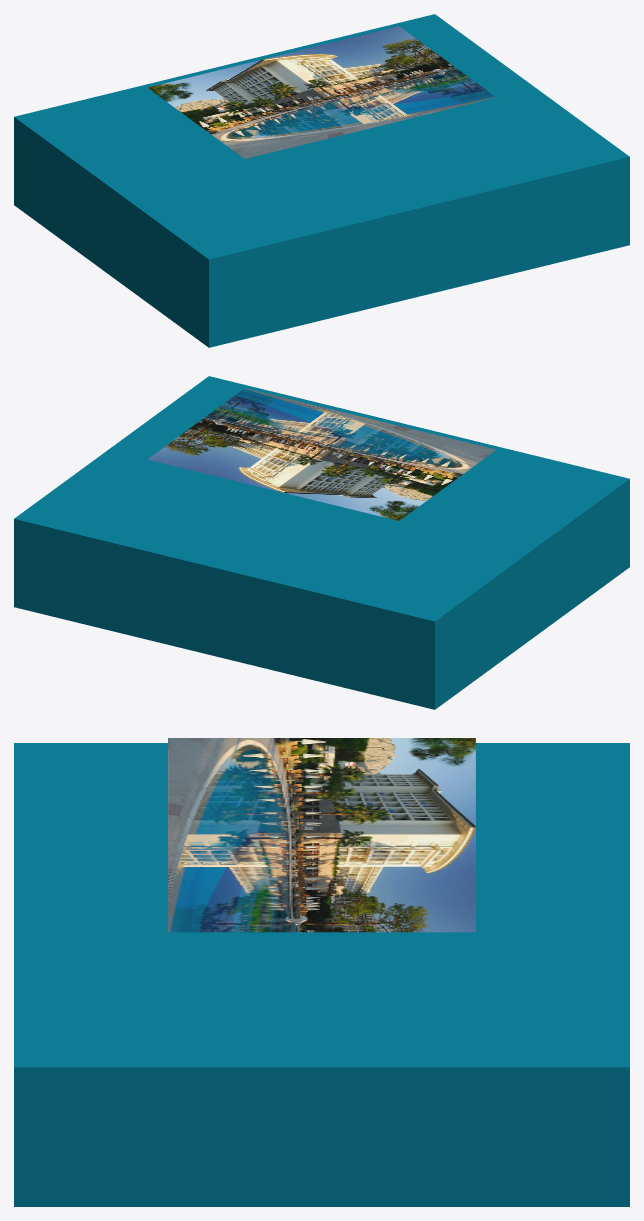
3 renders of one model, top to bottom at view 1: azimuth 30°, elevation 25°; view 2: azimuth 150°, elevation 25°; view 3: azimuth 270°, elevation 25°, orthographic. The views are drawn at different scales.
Parts seen in each view (by area): view 1: PhotoBorder, PhotoPlane; view 2: PhotoBorder, PhotoPlane; view 3: PhotoBorder, PhotoPlane.
Boxes of the visible parts, left/top/right/bottom form: PhotoBorder: left=14, top=14, right=629, bottom=347; PhotoPlane: left=147, top=26, right=496, bottom=158; PhotoBorder: left=14, top=376, right=629, bottom=709; PhotoPlane: left=147, top=388, right=496, bottom=520; PhotoBorder: left=14, top=743, right=629, bottom=1206; PhotoPlane: left=168, top=738, right=475, bottom=932.
Bounding box in the file's own units: 2.49 × 0.75 × 2.
2 materials, 1 textured.
